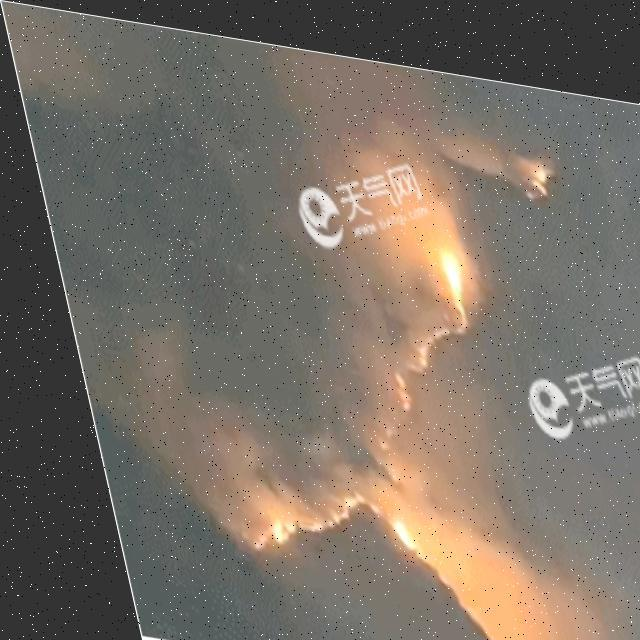Fire: (208, 466, 499, 639), (311, 217, 488, 452), (503, 128, 554, 186)
